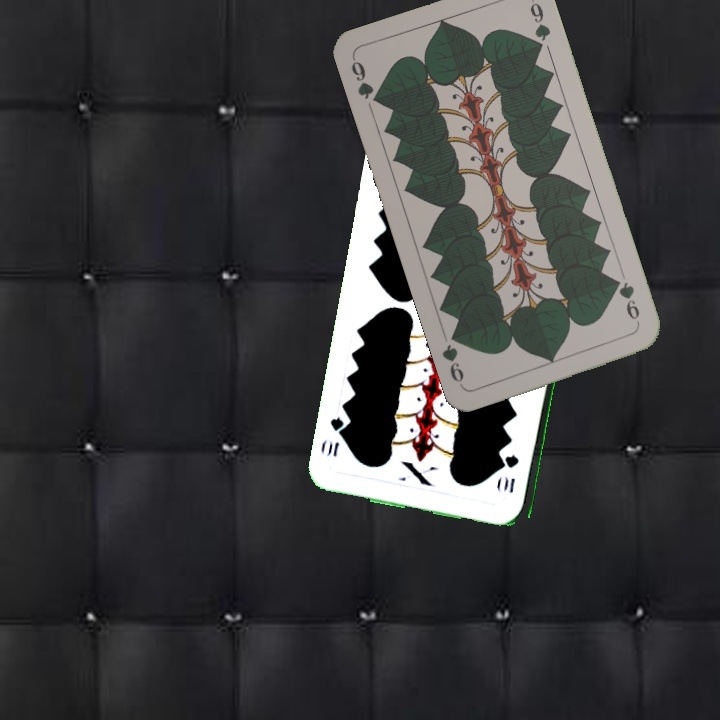G10: (499, 451, 521, 496)
G9: (347, 54, 385, 108), (609, 274, 643, 329)
